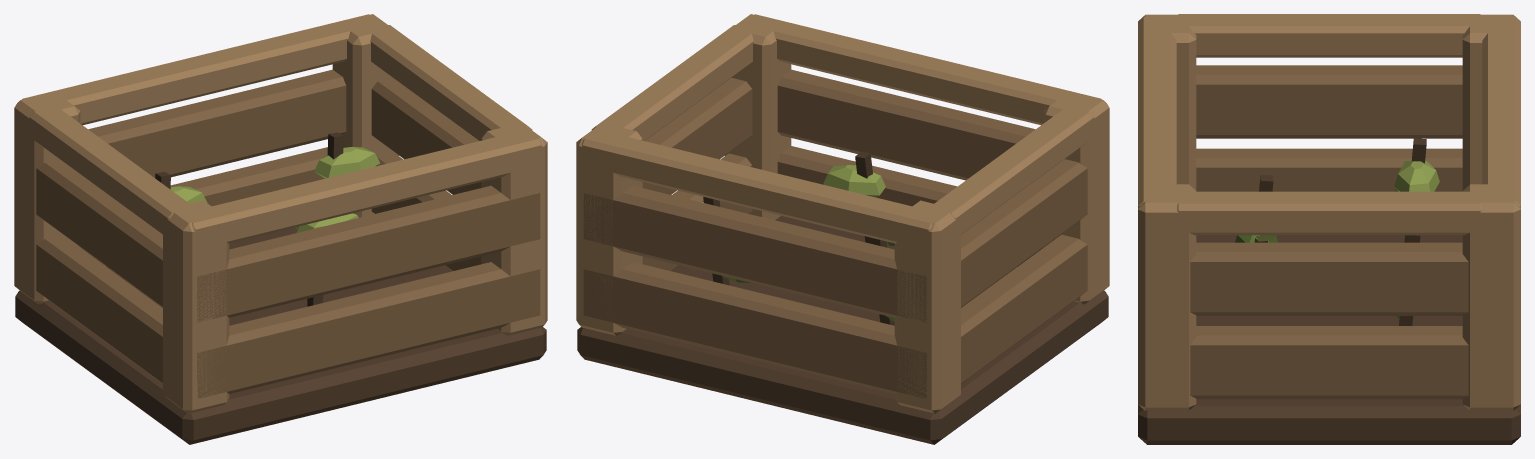
The model's file is hops_cutting_low.glb.
3 views of the same model, side by side, from view 1: azimuth 30°, elevation 25°; view 2: azimuth 150°, elevation 25°; view 3: azimuth 270°, elevation 25° (orthographic). The views are drawn at different scales.
Visible parts, largest first — view 1: hops_cutting_low; view 2: hops_cutting_low; view 3: hops_cutting_low.
Part boxes in pixels (x1=…): hops_cutting_low: x1=14, y1=14, x2=547, y2=444; hops_cutting_low: x1=576, y1=14, x2=1109, y2=444; hops_cutting_low: x1=1138, y1=14, x2=1520, y2=444.
Bounding box in the file's own units: 0.75 × 0.4375 × 0.625.
